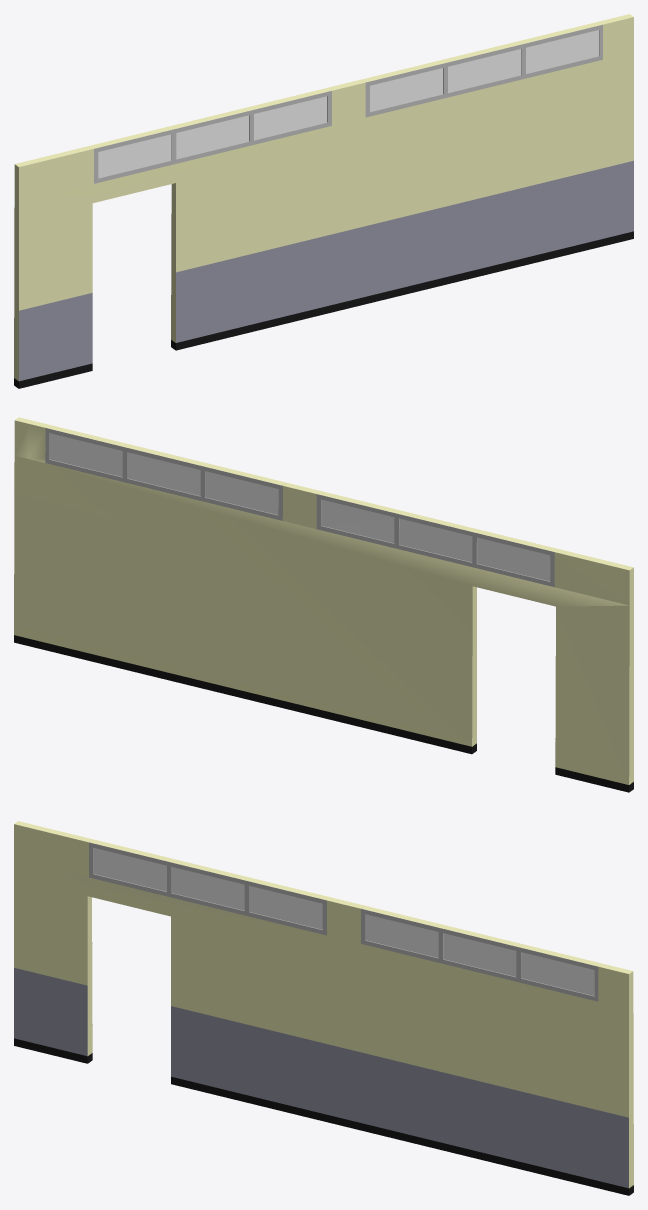
The model's file is Wall 2.fbx.
The picture shows the model from 3 angles, top to bottom: view 1: azimuth 30°, elevation 25°; view 2: azimuth 150°, elevation 25°; view 3: azimuth 330°, elevation 25°; orthographic projection.
Visible parts, largest first — view 1: Wall 2; view 2: Wall 2; view 3: Wall 2.
Part boxes in pixels (<box>): Wall 2: <box>14,14,633,388</box>; Wall 2: <box>14,417,633,792</box>; Wall 2: <box>14,821,633,1195</box>.
Size of the model in its own units: 842 by 290 by 11.48.
